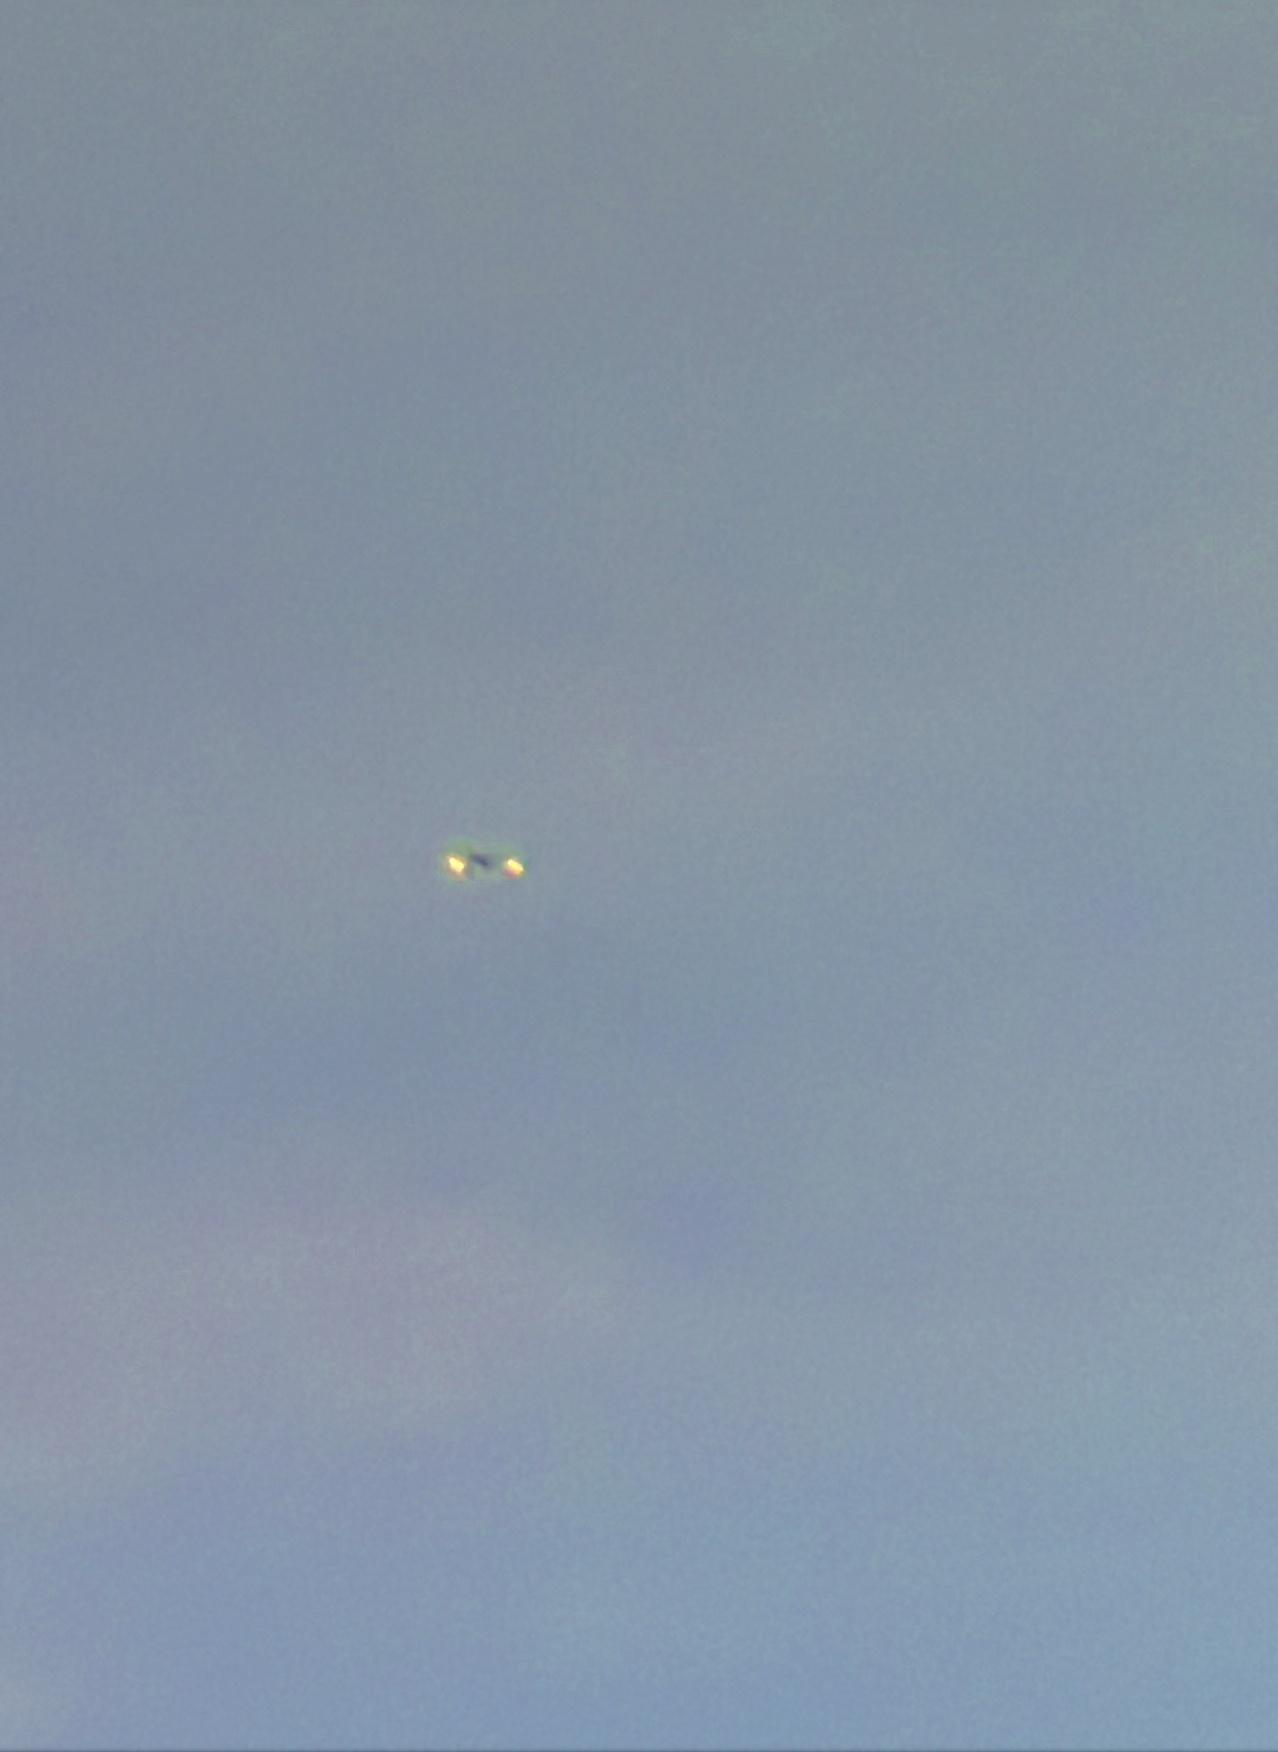Plane: (413, 809, 553, 920)
